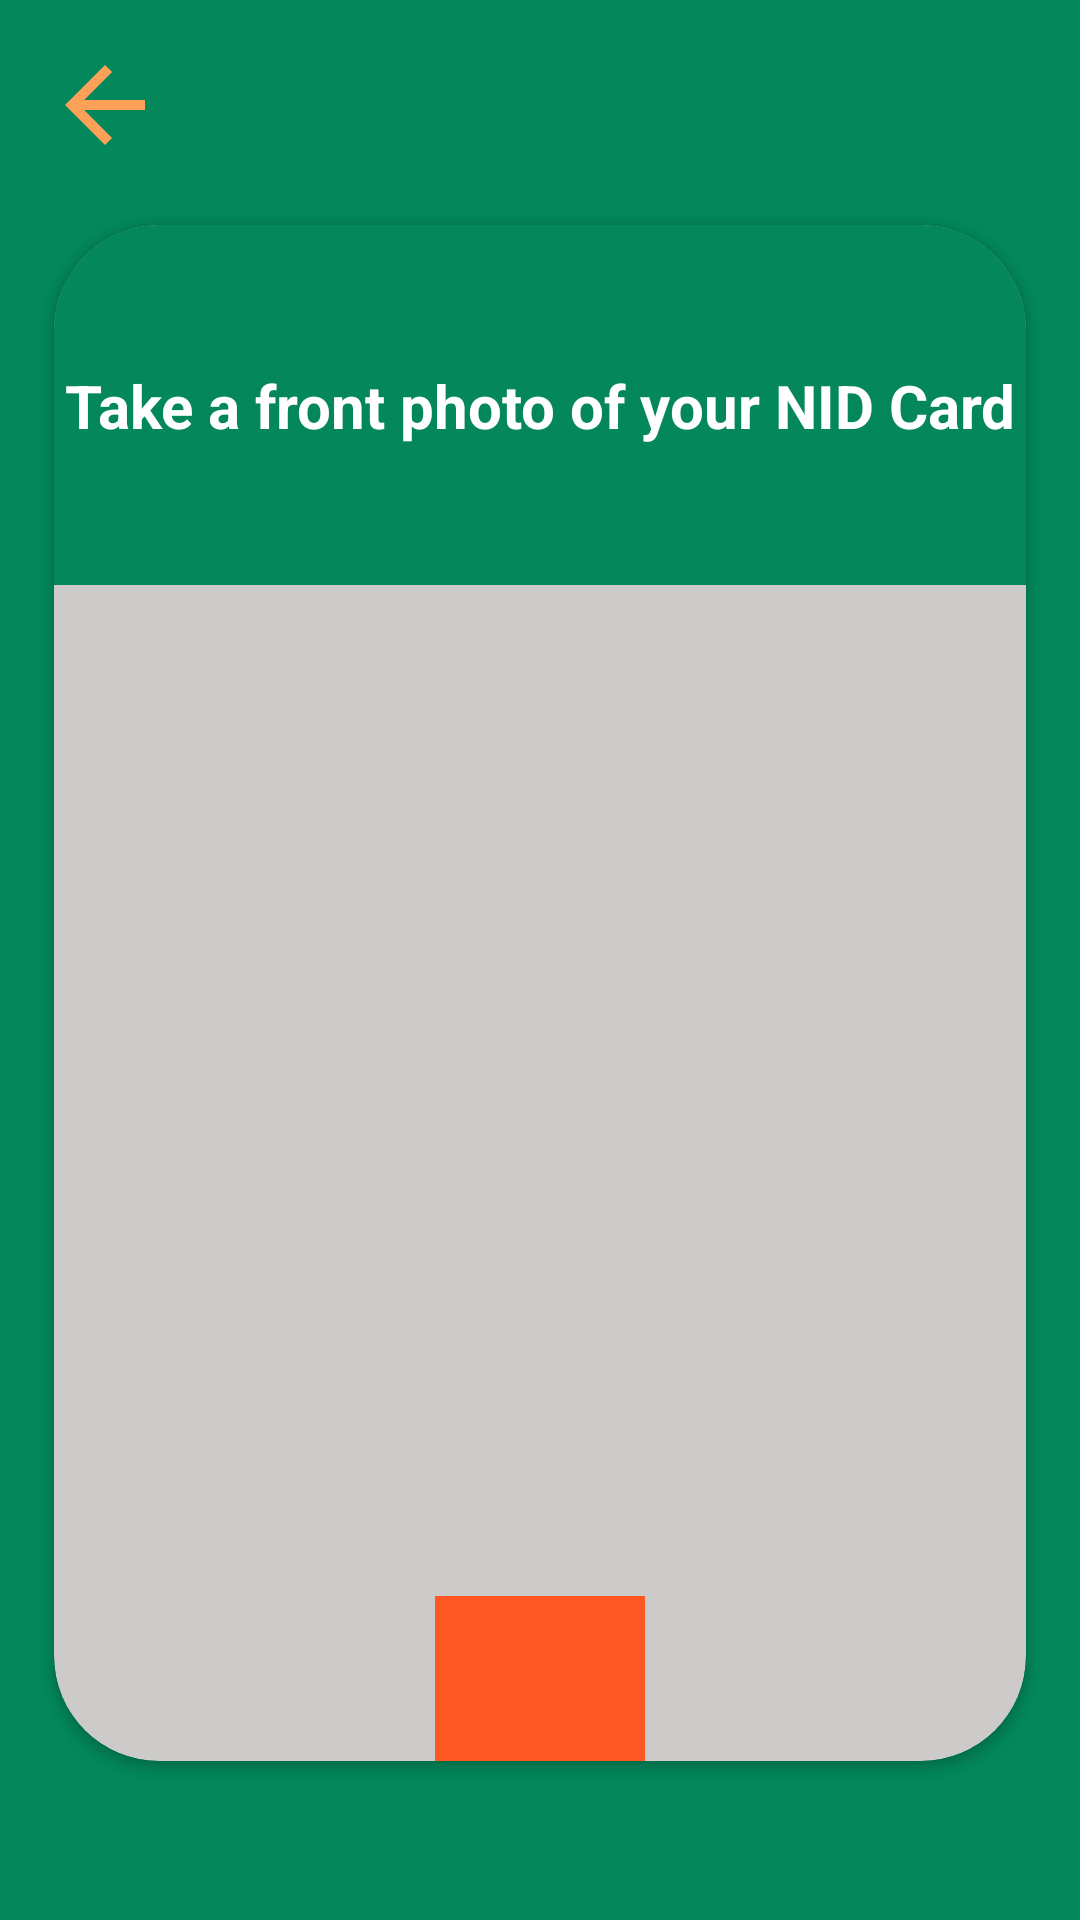

Icons on this 1080 × 1920 Android screen, each with the point to tap as (x,y):
arrow back: (105,105)
